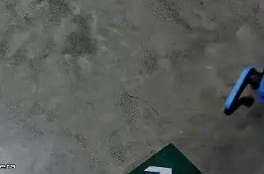robot dog: (220, 64, 264, 117)
